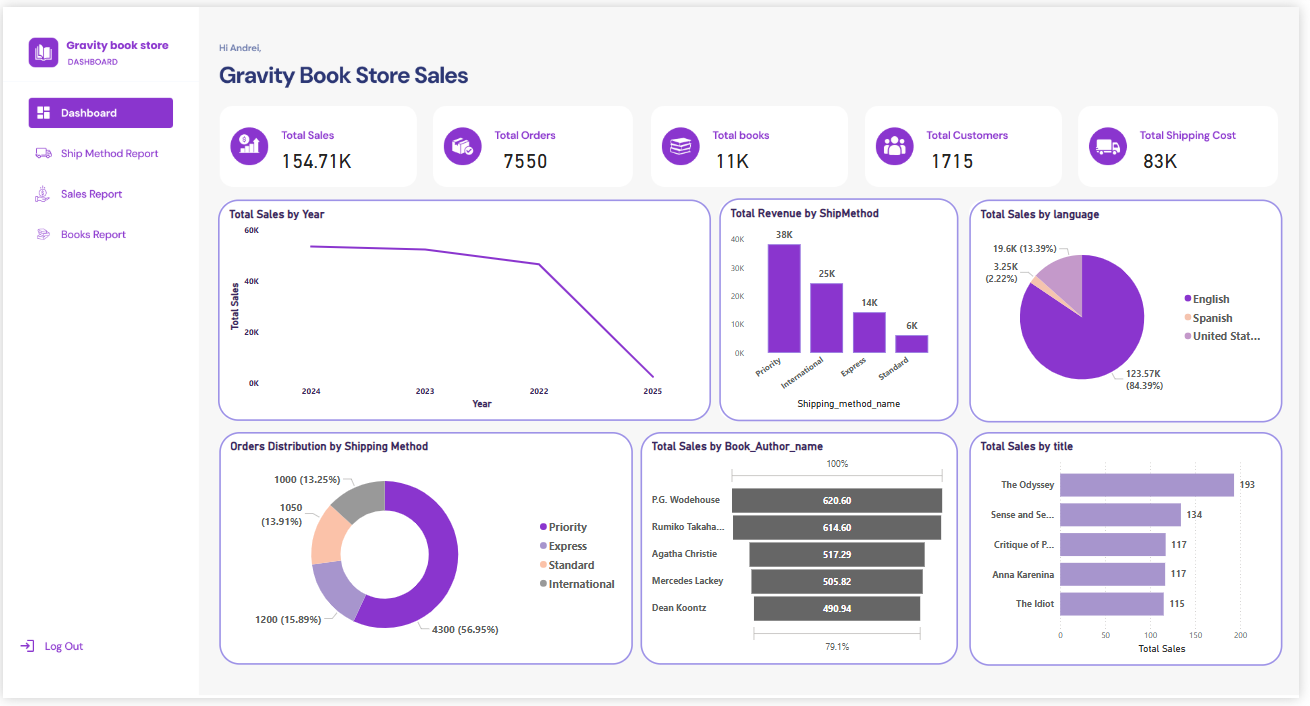

Layout of this report page (visuals, bound fields, positions):
{"tool":"powerbi","page":{"name":"dashboard ","canvas":[1920,1024],"ordinal":0},"visuals":[{"type":"donutChart","title":"Orders Distribution by Shipping Method","fields":{"Category":["DimShipping.Shipping_method_name"],"Y":["Factsales.No.Orders"]},"box":[320,630,612.5,345],"z":0},{"type":"columnChart","title":"Total Revenue by ShipMethod","fields":{"Category":["DimShipping.Shipping_method_name"],"Y":["Factsales.TotalShipCost"]},"box":[1062,284,354,330],"z":1000},{"type":"lineChart","fields":{"Y":["Factsales.Total Sales"],"Category":["DimDate.Year"]},"box":[318,286,730,328],"z":2000},{"type":"pieChart","fields":{"Series":["DimBooks.language"],"Y":["Factsales.Total Sales"]},"box":[1432,286,464,330],"z":3000},{"type":"barChart","fields":{"Category":["DimBooks.title"],"Y":["Factsales.Total Sales"]},"box":[1432,630,464,346],"z":4000},{"type":"funnel","fields":{"Category":["DimBooks.Book_Author_name"],"Y":["Factsales.Total Sales"]},"box":[945,630,470,345],"z":5000},{"type":"card","fields":{"Values":["Factsales.Total Sales"]},"box":[402,198,124,56],"z":6000},{"type":"actionButton","box":[35.7,137.1,219.3,47.1],"z":7000},{"type":"card","fields":{"Values":["Factsales.No.Orders"]},"box":[727.5,198.8,91.2,57.5],"z":8000},{"type":"card","fields":{"Values":["DimCustomers.Total books"]},"box":[1047.5,198.8,63.8,57.5],"z":9000},{"type":"card","fields":{"Values":["Factsales.Total Customers"]},"box":[1366.2,198.8,78.8,57.5],"z":10000},{"type":"card","fields":{"Values":["Factsales.TotalShipCost"]},"box":[1680,198.8,68.8,57.5],"z":11000},{"type":"actionButton","box":[36,198,219,47],"z":12000},{"type":"actionButton","box":[36,257,219,47],"z":13000},{"type":"actionButton","box":[36,316,219,47],"z":14000}]}

Visuals, with their boxes on the page's 1920x1024 design canvas (x1, y1, x2, y2). These are canvas units, not pixel positions in the 1310x706 screenshot, which may show the page scaled, cropped or inside an application window:
"Orders Distribution by Shipping Method" donutChart: bbox(320, 630, 932, 975)
"Total Revenue by ShipMethod" columnChart: bbox(1062, 284, 1416, 614)
lineChart - Factsales.Total Sales x DimDate.Year: bbox(318, 286, 1048, 614)
pieChart - DimBooks.language x Factsales.Total Sales: bbox(1432, 286, 1896, 616)
barChart - DimBooks.title x Factsales.Total Sales: bbox(1432, 630, 1896, 976)
funnel - DimBooks.Book_Author_name x Factsales.Total Sales: bbox(945, 630, 1415, 975)
card - Factsales.Total Sales: bbox(402, 198, 526, 254)
actionButton: bbox(36, 137, 255, 184)
card - Factsales.No.Orders: bbox(728, 199, 819, 256)
card - DimCustomers.Total books: bbox(1048, 199, 1111, 256)
card - Factsales.Total Customers: bbox(1366, 199, 1445, 256)
card - Factsales.TotalShipCost: bbox(1680, 199, 1749, 256)
actionButton: bbox(36, 198, 255, 245)
actionButton: bbox(36, 257, 255, 304)
actionButton: bbox(36, 316, 255, 363)
